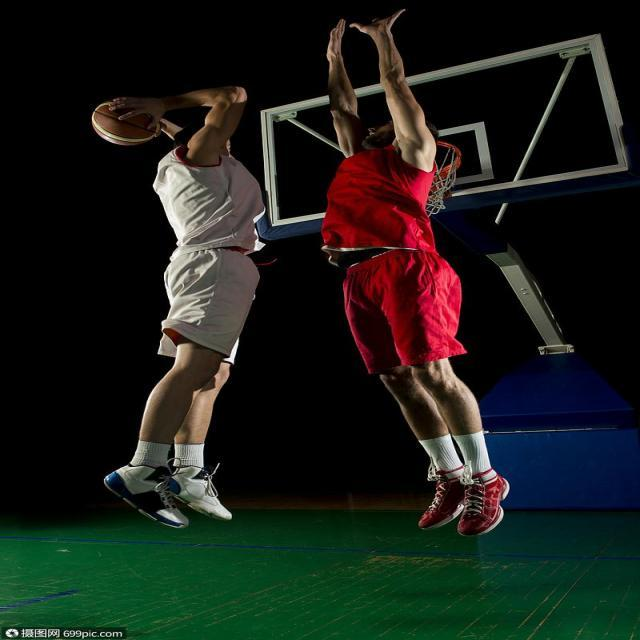rim: (92, 102, 160, 144)
